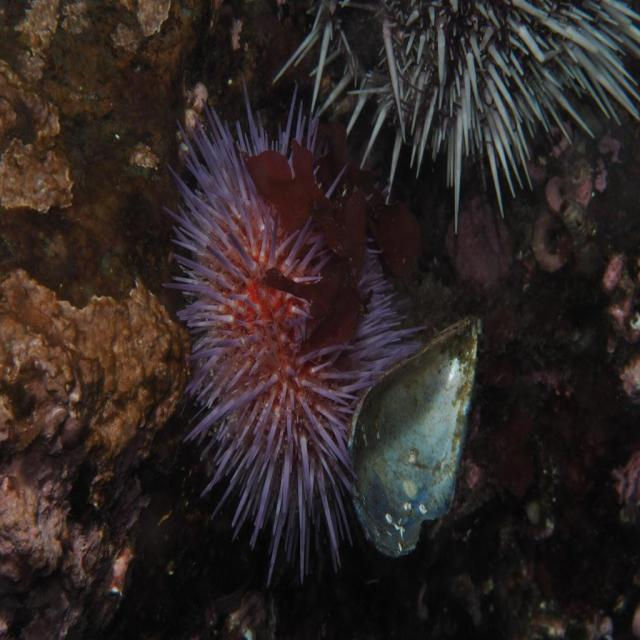Deniz Kestanesi: (160, 75, 423, 582)
